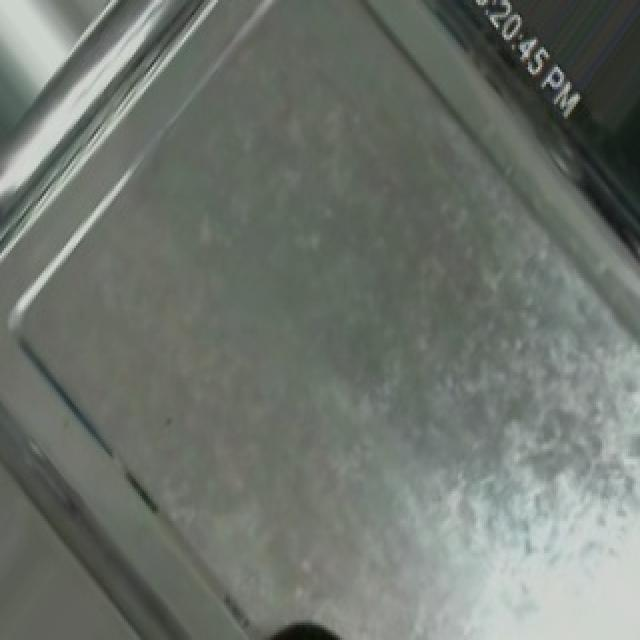Fruit: (242, 605, 372, 640)
